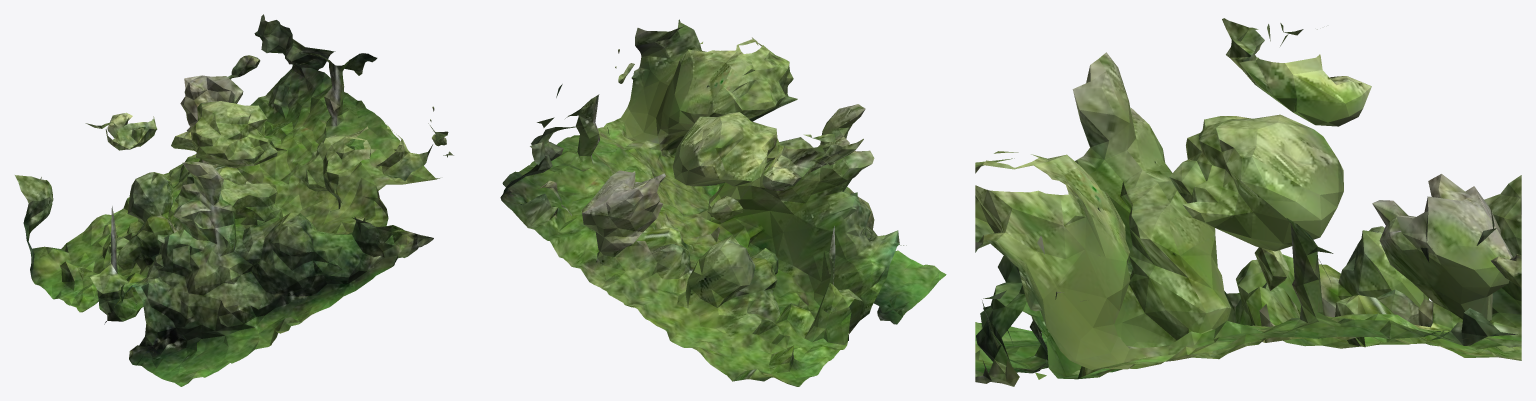
3 renders of one model, left to right at view 1: azimuth 30°, elevation 25°; view 2: azimuth 150°, elevation 25°; view 3: azimuth 270°, elevation 25°, orthographic. The views are drawn at different scales.
Size of the model in its own units: 26.11 by 17.54 by 26.11.
Materials: 6 (6 with a texture image).
